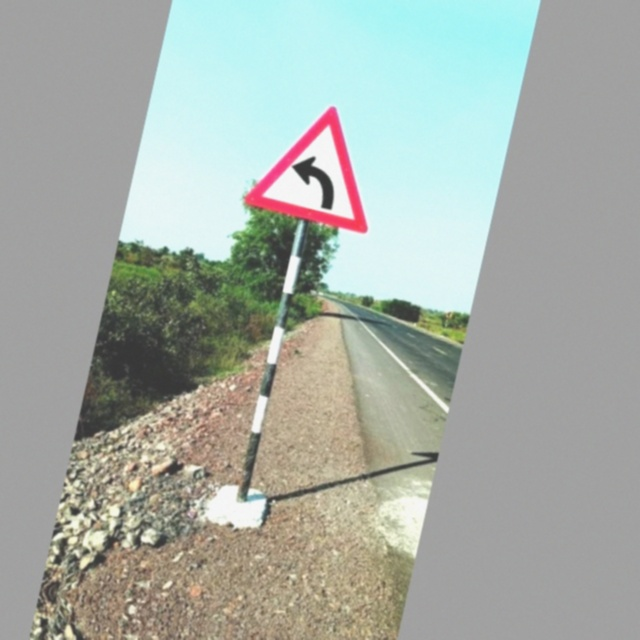Left_Hand_Curve: (248, 89, 389, 240)
